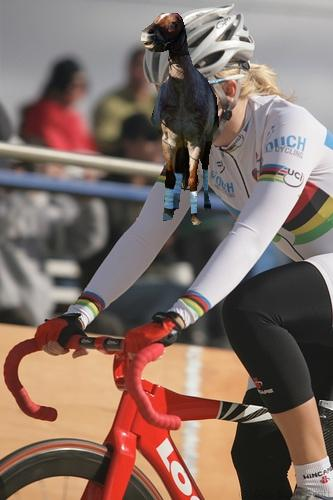tampered: (142, 14, 219, 225)
